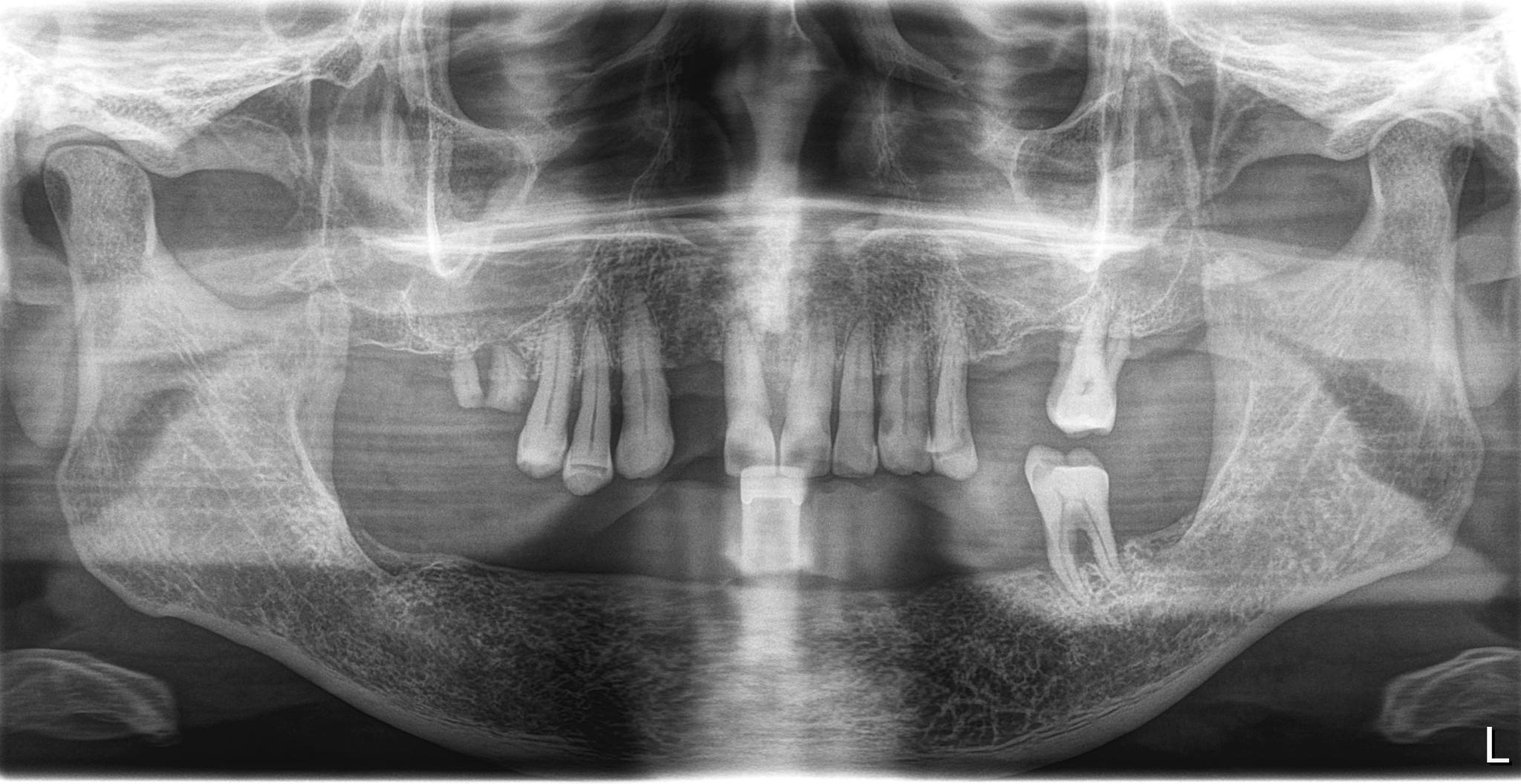Dental Caries: (1073, 375, 1103, 402)
Missing Tooth: (338, 308, 451, 482), (693, 525, 764, 642), (1131, 332, 1213, 427), (969, 343, 1048, 424), (910, 522, 954, 653), (665, 358, 724, 455), (626, 527, 683, 626), (1142, 473, 1186, 593), (843, 538, 885, 660), (1006, 523, 1046, 647), (784, 536, 827, 651), (355, 507, 406, 599), (420, 503, 466, 605), (969, 525, 1002, 654), (516, 520, 565, 601), (477, 516, 518, 602), (583, 536, 620, 622)
Periapical Abnormality: (1053, 508, 1111, 594)
Periodontal Pocket: (724, 329, 960, 463), (538, 338, 668, 476), (1055, 312, 1118, 426)
Retained Root: (451, 342, 530, 415)
